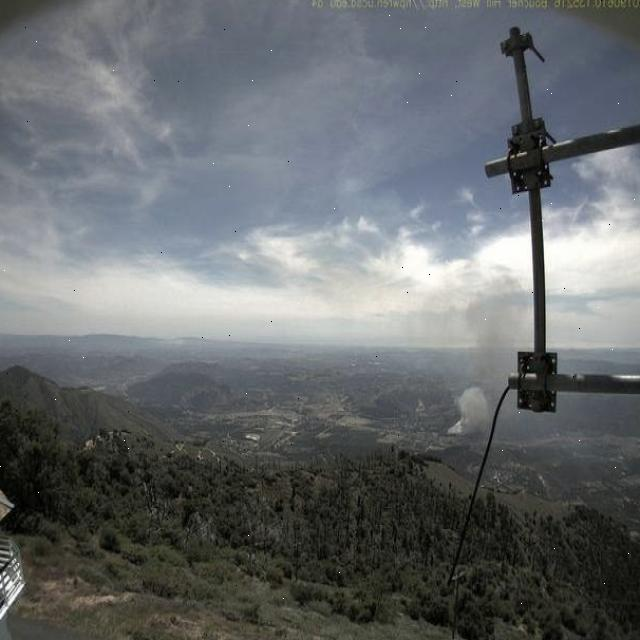smoke: (442, 266, 532, 443)
